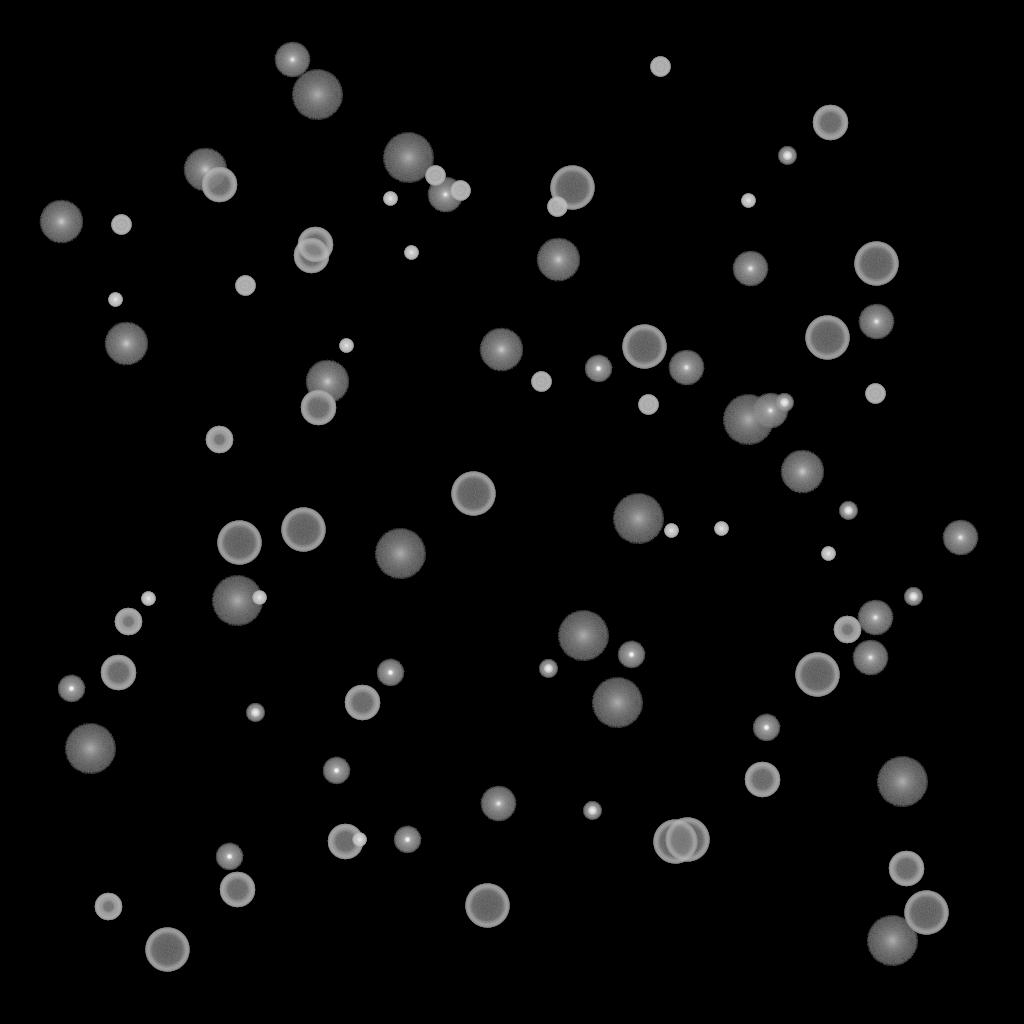depth:-10: (215, 843, 243, 871), (322, 757, 350, 785), (393, 826, 421, 854), (57, 675, 85, 703), (617, 641, 645, 669), (584, 355, 612, 383), (752, 714, 780, 742), (376, 659, 404, 687)
depth:-20: (583, 802, 601, 820), (775, 394, 793, 412), (539, 660, 557, 678), (246, 704, 264, 722), (778, 147, 796, 165), (904, 588, 922, 606), (839, 502, 857, 520)
depth:-30: (339, 339, 353, 353), (352, 833, 366, 847), (821, 547, 835, 561), (108, 293, 122, 307), (141, 592, 155, 606), (714, 522, 728, 536), (404, 246, 418, 260), (741, 194, 755, 208), (664, 524, 678, 538), (252, 591, 266, 605), (383, 192, 397, 206)
depth:-40: (450, 181, 470, 201), (111, 215, 131, 235), (650, 57, 670, 77), (531, 372, 551, 392), (235, 276, 255, 296), (547, 197, 567, 217), (638, 395, 658, 415), (425, 166, 445, 186), (865, 384, 885, 404)
depth:-50: (833, 616, 861, 644), (205, 426, 233, 454), (94, 893, 122, 921), (114, 608, 142, 636)
depth:-60: (888, 851, 924, 887), (344, 685, 380, 721), (293, 238, 329, 274), (201, 167, 237, 203), (812, 105, 848, 141), (300, 390, 336, 426), (744, 762, 780, 798), (219, 872, 255, 908), (327, 824, 363, 860), (100, 655, 136, 691), (297, 227, 333, 263)
depth:-70: (622, 325, 666, 369), (465, 884, 509, 928), (281, 508, 325, 552), (854, 242, 898, 286), (217, 521, 261, 565), (145, 928, 189, 972), (805, 316, 849, 360), (451, 472, 495, 516), (550, 166, 594, 210), (665, 818, 709, 862), (653, 820, 697, 864), (795, 653, 839, 697), (904, 891, 948, 935)
depth:0: (858, 304, 894, 340), (668, 350, 704, 386), (427, 177, 463, 213), (852, 640, 888, 676), (752, 393, 788, 429), (274, 42, 310, 78), (732, 251, 768, 287), (480, 786, 516, 822), (857, 600, 893, 636), (942, 520, 978, 556)
depth:10: (536, 238, 580, 282), (104, 322, 148, 366), (39, 200, 83, 244), (780, 450, 824, 494), (305, 360, 349, 404), (183, 148, 227, 192), (479, 328, 523, 372)
depth:20: (64, 724, 116, 774), (591, 678, 643, 728), (211, 576, 263, 626), (374, 529, 426, 579), (382, 133, 434, 183), (612, 494, 664, 544), (722, 395, 774, 445), (876, 757, 928, 807), (557, 611, 609, 661), (291, 70, 343, 120), (866, 916, 918, 966)
